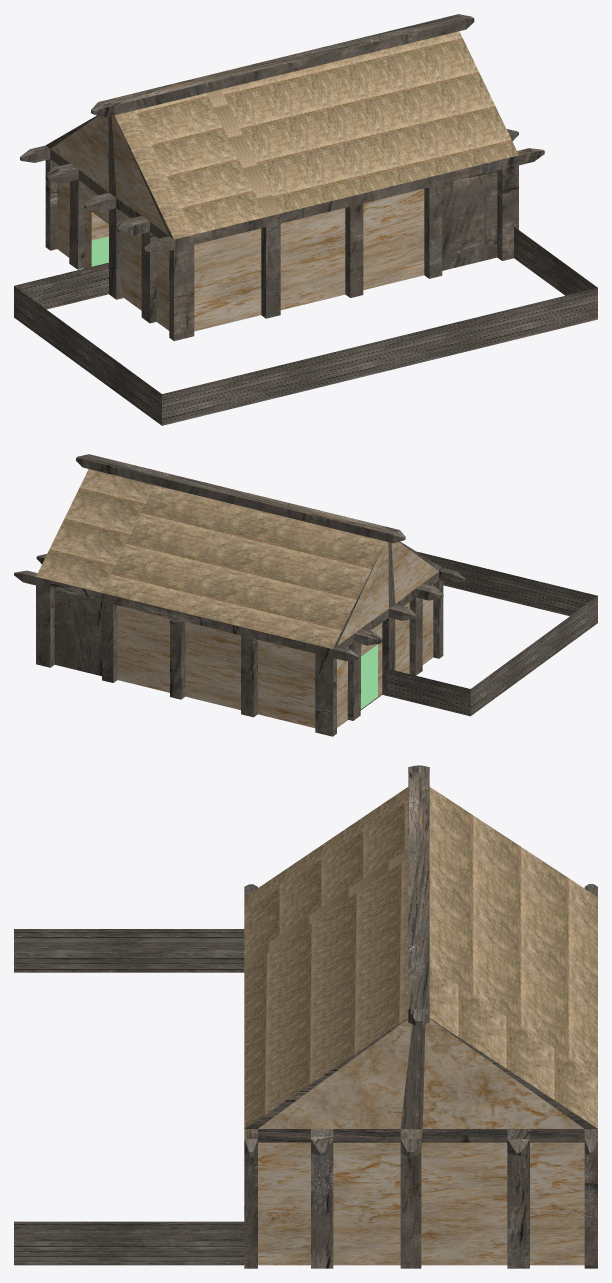
Rendered from house_big.glb.
The picture shows the model from 3 angles, top to bottom: view 1: azimuth 30°, elevation 25°; view 2: azimuth 150°, elevation 25°; view 3: azimuth 270°, elevation 25°; orthographic projection. The views are drawn at different scales.
Parts seen in each view (by area): view 1: Cube; view 2: Cube; view 3: Cube.
Boxes of the visible parts, <box> form: Cube: <box>14,14,597,425</box>; Cube: <box>14,454,597,736</box>; Cube: <box>14,765,597,1268</box>.
Bounding box in the file's own units: 18.26 × 7.15 × 14.34.
Materials: 5 (4 with a texture image).
